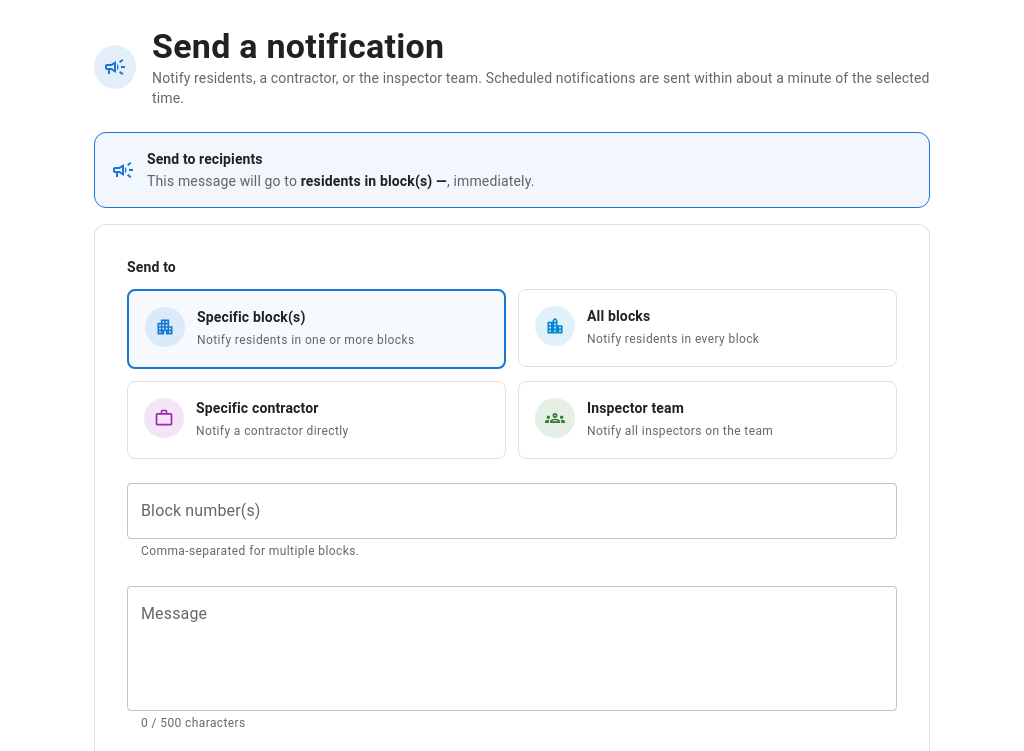
Test: NotificationsPage manager composer — validation › the contractor scope needs a contractor picked
Step 1. Click the text "Specific contractor" → (257, 408), box [196,400,318,416]
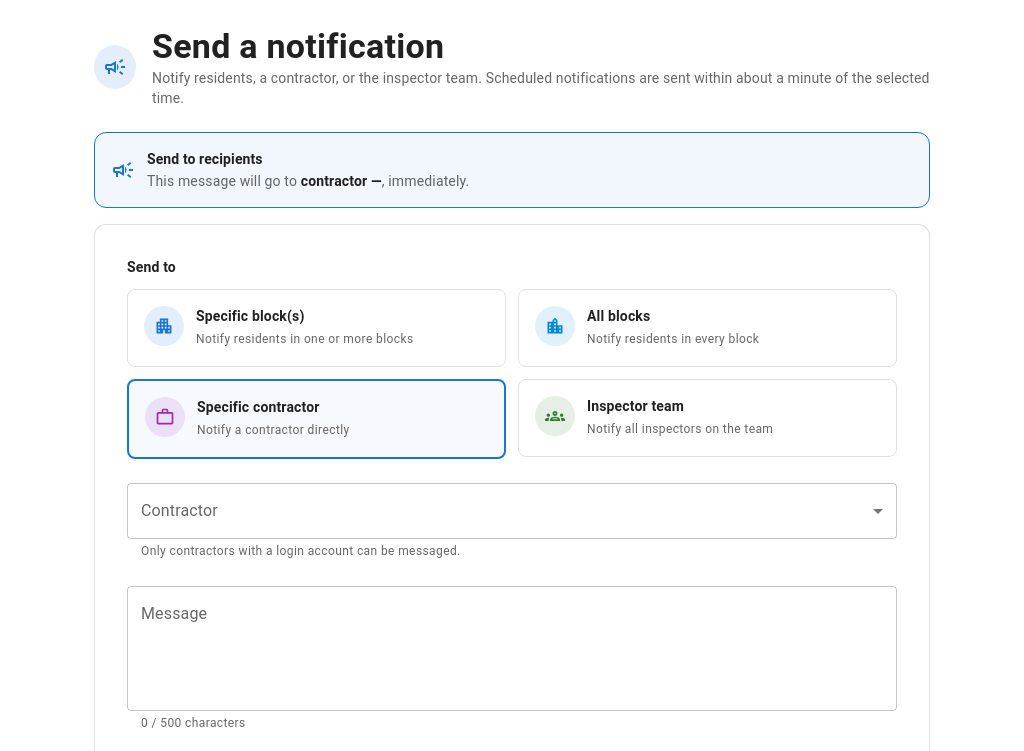
Step 2. Type "Please attend Blk 44A." into the text box labelled "Message" → (512, 648), box [141,602,883,694]
(page scrolled)
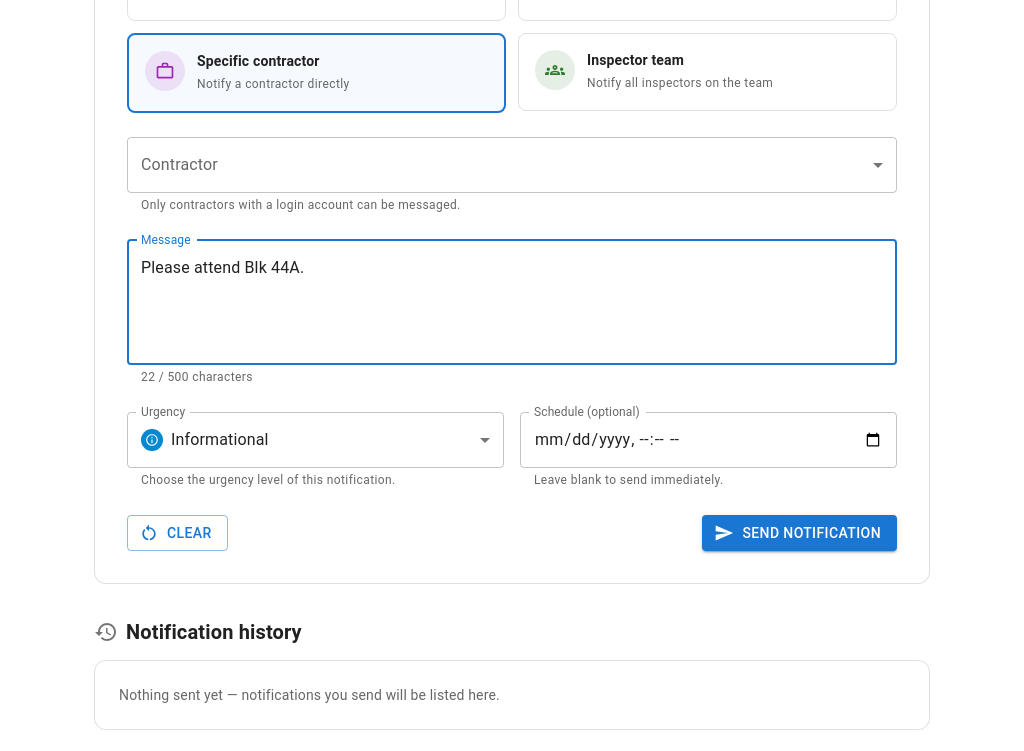
Step 3. Click the button "Send notification" → (800, 533), box [702,515,897,551]
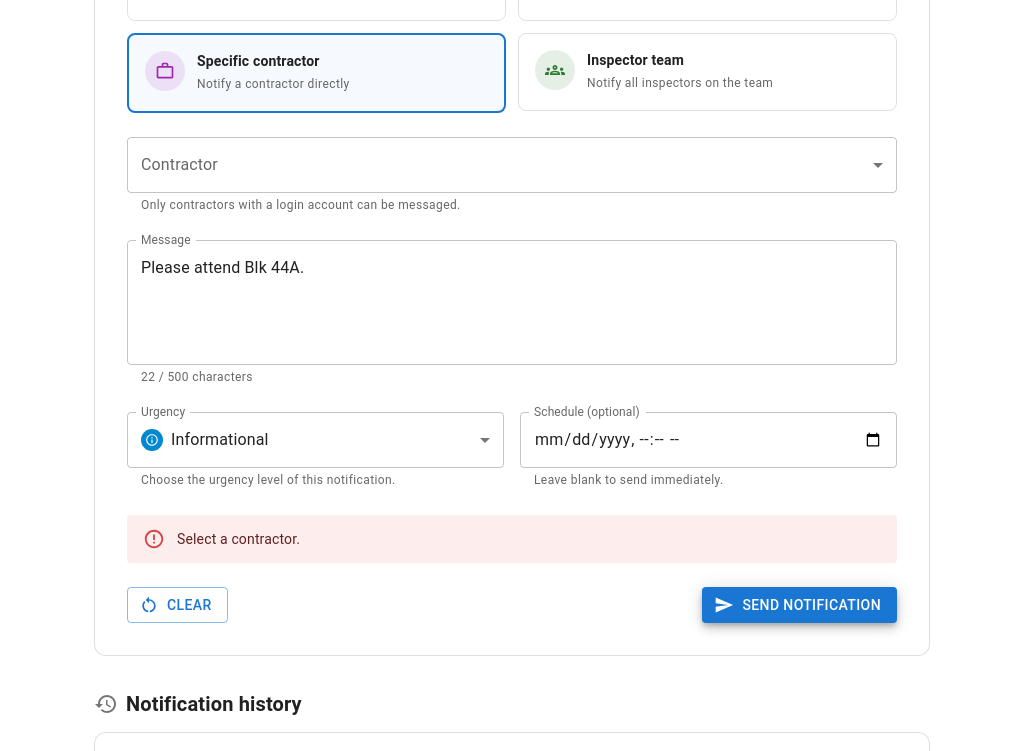
Expected: the text "Select a contractor." is shown, [177,531,300,547]
